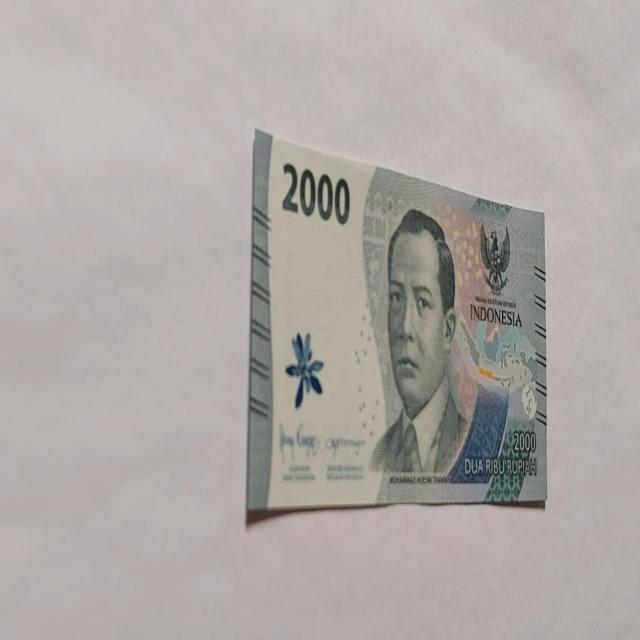dua ribu rupiah: (247, 128, 548, 518)
